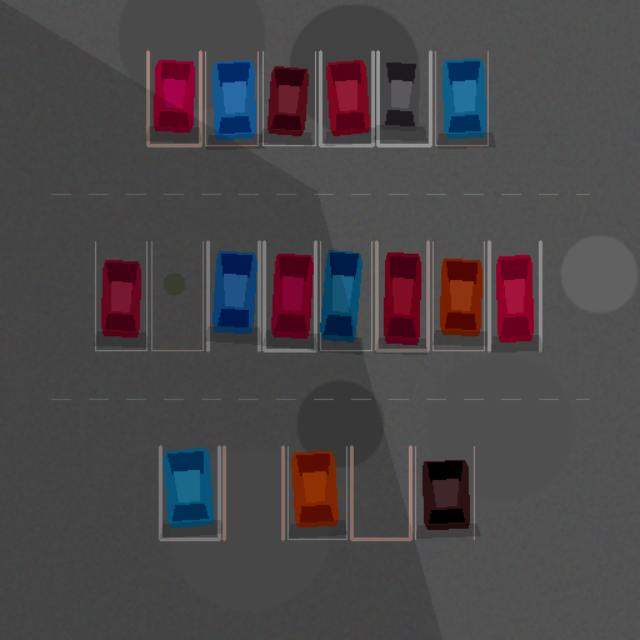space-empty: (151, 241, 202, 350), (224, 446, 283, 539), (351, 446, 410, 539)
space-occupied: (376, 241, 428, 350), (432, 241, 484, 350), (95, 241, 146, 350), (208, 241, 259, 350), (264, 241, 315, 350), (320, 241, 371, 350), (489, 241, 540, 350), (160, 446, 219, 539), (287, 446, 346, 539), (415, 446, 474, 539), (147, 51, 200, 145), (320, 51, 373, 145), (377, 51, 430, 145), (205, 51, 257, 145), (263, 51, 315, 145), (435, 51, 487, 145)
